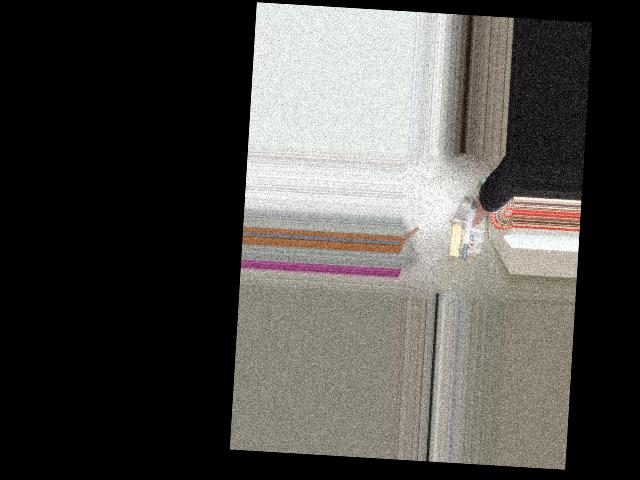cheese: (431, 207, 509, 263)
